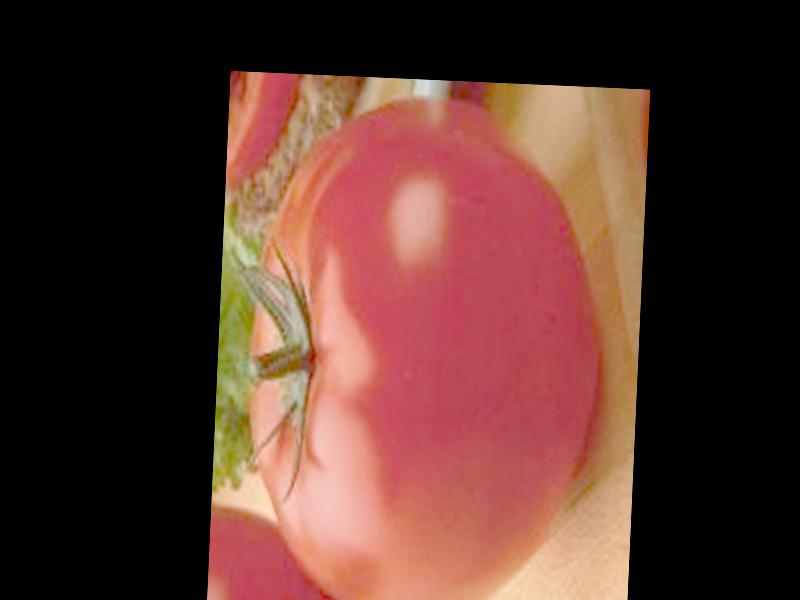Tomato: (239, 91, 603, 600)
